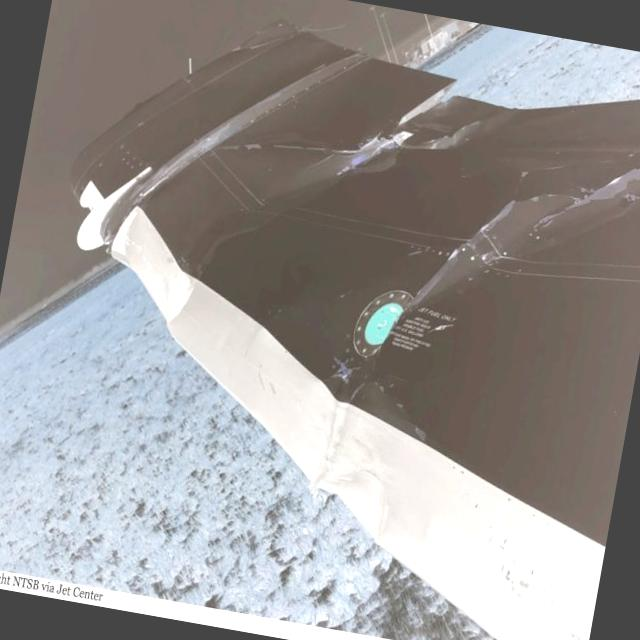dent: (160, 192, 286, 340), (346, 470, 400, 536)
